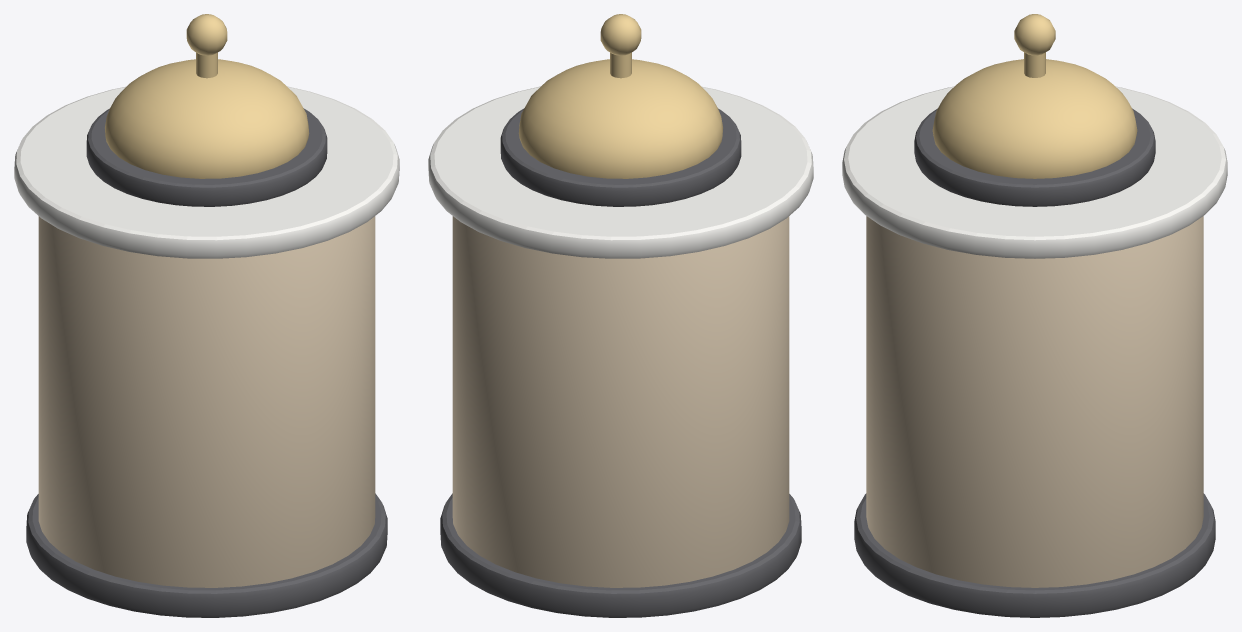
Rendered from bell.glb.
3 renders of one model, left to right at view 1: azimuth 30°, elevation 25°; view 2: azimuth 150°, elevation 25°; view 3: azimuth 270°, elevation 25°, orthographic.
Visible parts, largest first — view 1: bell_oak, bell_white, desk bell, bell_black; view 2: bell_oak, bell_white, desk bell, bell_black; view 3: bell_oak, bell_white, desk bell, bell_black.
Part boxes in pixels (x1,y1,x2,y2): bell_oak: [38, 216, 375, 587]; bell_white: [14, 86, 399, 258]; desk bell: [86, 14, 327, 206]; bell_black: [26, 493, 387, 617]; bell_oak: [452, 216, 789, 587]; bell_white: [428, 86, 813, 258]; desk bell: [500, 14, 741, 206]; bell_black: [440, 493, 801, 617]; bell_oak: [866, 216, 1203, 587]; bell_white: [842, 86, 1227, 258]; desk bell: [914, 14, 1155, 206]; bell_black: [854, 493, 1215, 617].
Size of the model in its own units: 0.64 by 0.9641 by 0.64.
